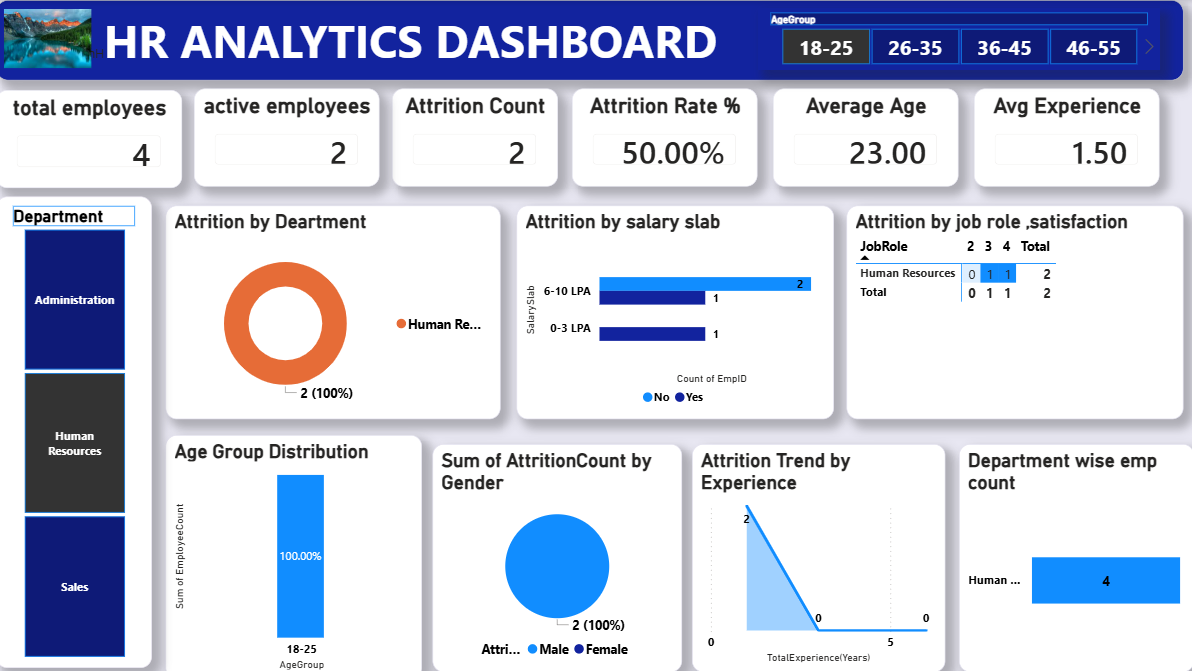

The dashboard page shown, as its layout file describes it:
{"tool":"powerbi","page":{"name":"hranalysis_project","canvas":[1280,720],"ordinal":0},"visuals":[{"type":"textbox","box":[10,0,1259,85],"z":0},{"type":"image","box":[0,9.4,128.5,62.4],"z":1000},{"type":"cardVisual","title":"total  employees","fields":{"Data":["CountNonNull(HR_Analytics-4.EmpID)"]},"box":[10,95,197,104],"z":2000},{"type":"cardVisual","title":"Attrition Count","fields":{"Data":["Sum(HR_Analytics-4.AttritionCount)"]},"box":[429,94.5,175.7,103.9],"z":3000},{"type":"cardVisual","title":"Attrition Rate %","fields":{"Data":["HR_Analytics-4.Attrition Rate %"]},"box":[619.8,94.5,196.5,103.9],"z":4000},{"type":"cardVisual","title":"Average Age","fields":{"Data":["Avg(HR_Analytics-4.Age)"]},"box":[833.4,94.5,196.5,103.9],"z":5000},{"type":"cardVisual","title":"active employees","fields":{"Data":["CountNonNull(HR_Analytics-4.EmployeeCount)"]},"box":[219.2,94.5,196.5,103.9],"z":6000},{"type":"cardVisual","title":"Avg Experience","fields":{"Data":["Avg(HR_Analytics-4.YearsatCompany)"]},"box":[1046.9,94.5,196.5,103.9],"z":7000},{"type":"donutChart","title":"Attrition by Deartment","fields":{"Category":["HR_Analytics-4.Department"],"Y":["Sum(HR_Analytics-4.AttritionCount)"]},"box":[189,217.3,355.3,226.8],"z":8000},{"type":"clusteredBarChart","title":"Attrition by salary slab","fields":{"Category":["HR_Analytics-4.SalarySlab"],"Y":["CountNonNull(HR_Analytics-4.EmpID)"],"Series":["HR_Analytics-4.Attrition"]},"box":[561.3,217.3,336.4,226.8],"z":9000},{"type":"pivotTable","title":"Attrition by job role ,satisfaction","fields":{"Values":["Sum(HR_Analytics-4.AttritionCount)"],"Rows":["HR_Analytics-4.JobRole"],"Columns":["HR_Analytics-4.JobSatisfaction"]},"box":[910.9,217.3,357.2,226.8],"z":10000},{"type":"hundredPercentStackedColumnChart","title":"Age Group Distribution","fields":{"Category":["HR_Analytics-4.AgeGroup"],"Y":["Sum(HR_Analytics-4.EmployeeCount)"]},"box":[189,461.1,272.1,258.9],"z":11000},{"type":"pieChart","fields":{"Category":["HR_Analytics-4.Gender"],"Y":["Sum(HR_Analytics-4.AttritionCount)"]},"box":[472.4,470.6,264.6,241.9],"z":12000},{"type":"areaChart","title":"Attrition Trend by Experience","fields":{"Category":["HR_Analytics-4.TotalExperience(Years)"],"Y2":["Sum(HR_Analytics-4.AttritionCount)"]},"box":[748.4,470.6,268.3,241.9],"z":13000},{"type":"funnel","title":"Department wise emp  count","fields":{"Category":["HR_Analytics-4.Department"],"Y":["CountNonNull(HR_Analytics-4.EmpID)"]},"box":[1029.9,470.6,249.5,241.9],"z":14000},{"type":"slicer","fields":{"Values":["HR_Analytics-4.Department"]},"box":[9,209,165,500],"z":15000},{"type":"slicer","fields":{"Values":["HR_Analytics-4.AgeGroup"]},"box":[817.6,8,426.3,66.8],"z":16000}]}

Visuals, with their boxes in screenshot pixels (x1, y1, x2, y2), scaled from the page's 1280x720 canvas onto the 1192x671 screenshot:
textbox: [left=9, top=0, right=1182, bottom=79]
image: [left=0, top=9, right=120, bottom=67]
"total  employees" cardVisual: [left=9, top=89, right=193, bottom=185]
"Attrition Count" cardVisual: [left=400, top=88, right=563, bottom=185]
"Attrition Rate %" cardVisual: [left=577, top=88, right=760, bottom=185]
"Average Age" cardVisual: [left=776, top=88, right=959, bottom=185]
"active employees" cardVisual: [left=204, top=88, right=387, bottom=185]
"Avg Experience" cardVisual: [left=975, top=88, right=1158, bottom=185]
"Attrition by Deartment" donutChart: [left=176, top=203, right=507, bottom=414]
"Attrition by salary slab" clusteredBarChart: [left=523, top=203, right=836, bottom=414]
"Attrition by job role ,satisfaction" pivotTable: [left=848, top=203, right=1181, bottom=414]
"Age Group Distribution" hundredPercentStackedColumnChart: [left=176, top=430, right=429, bottom=670]
pieChart - HR_Analytics-4.Gender x Sum(HR_Analytics-4.AttritionCount): [left=440, top=439, right=686, bottom=664]
"Attrition Trend by Experience" areaChart: [left=697, top=439, right=947, bottom=664]
"Department wise emp  count" funnel: [left=959, top=439, right=1191, bottom=664]
slicer - HR_Analytics-4.Department: [left=8, top=195, right=162, bottom=661]
slicer - HR_Analytics-4.AgeGroup: [left=761, top=7, right=1158, bottom=70]
